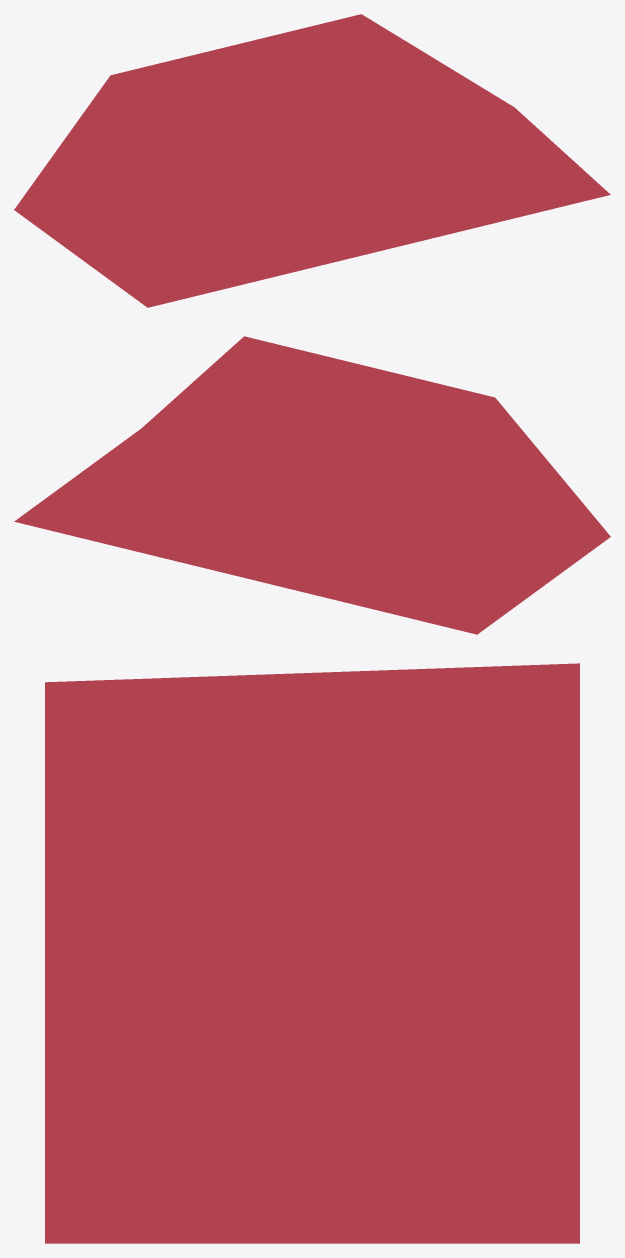
File: mustang-draco.gltf
The picture shows the model from 3 angles, top to bottom: view 1: azimuth 30°, elevation 25°; view 2: azimuth 150°, elevation 25°; view 3: azimuth 270°, elevation 25°; orthographic projection. The views are drawn at different scales.
Bounding box in the file's own units: 2.4 × 0.55 × 1.2.
